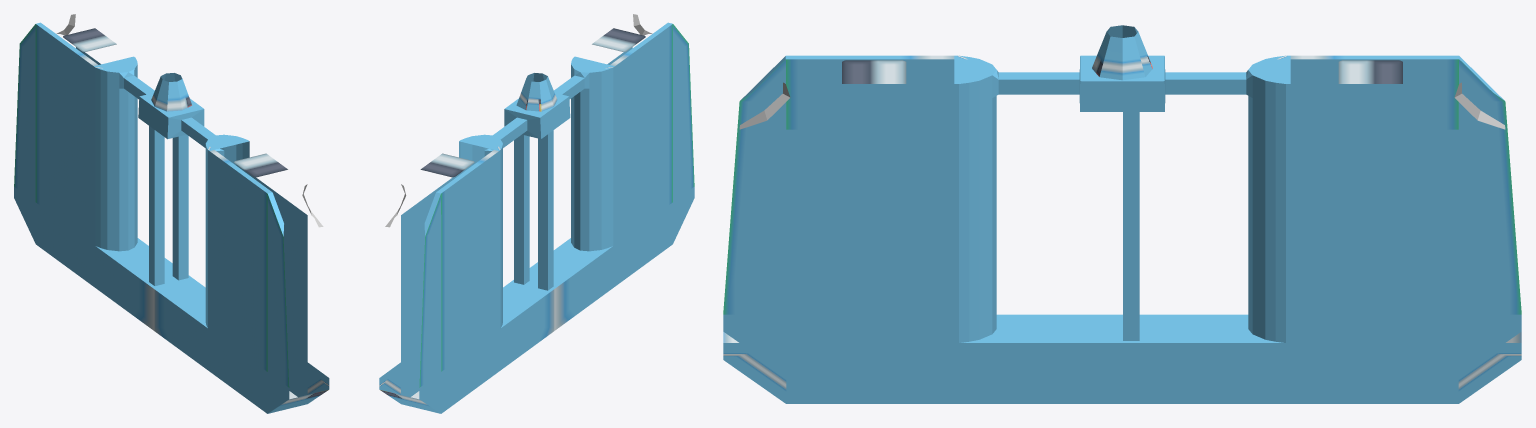
The model's file is gateopen.obj.
The picture shows the model from 3 angles, left to right: view 1: azimuth 30°, elevation 25°; view 2: azimuth 150°, elevation 25°; view 3: azimuth 270°, elevation 25°; orthographic projection. The views are drawn at different scales.
Parts seen in each view (by area): view 1: cube; view 2: cube; view 3: cube.
Boxes of the visible parts, box(x1,y1,x2,y2) form: cube: box(14, 14, 329, 413); cube: box(379, 14, 694, 413); cube: box(723, 25, 1521, 403).
Bounding box in the file's own units: 1.04 × 1.52 × 2.97.
